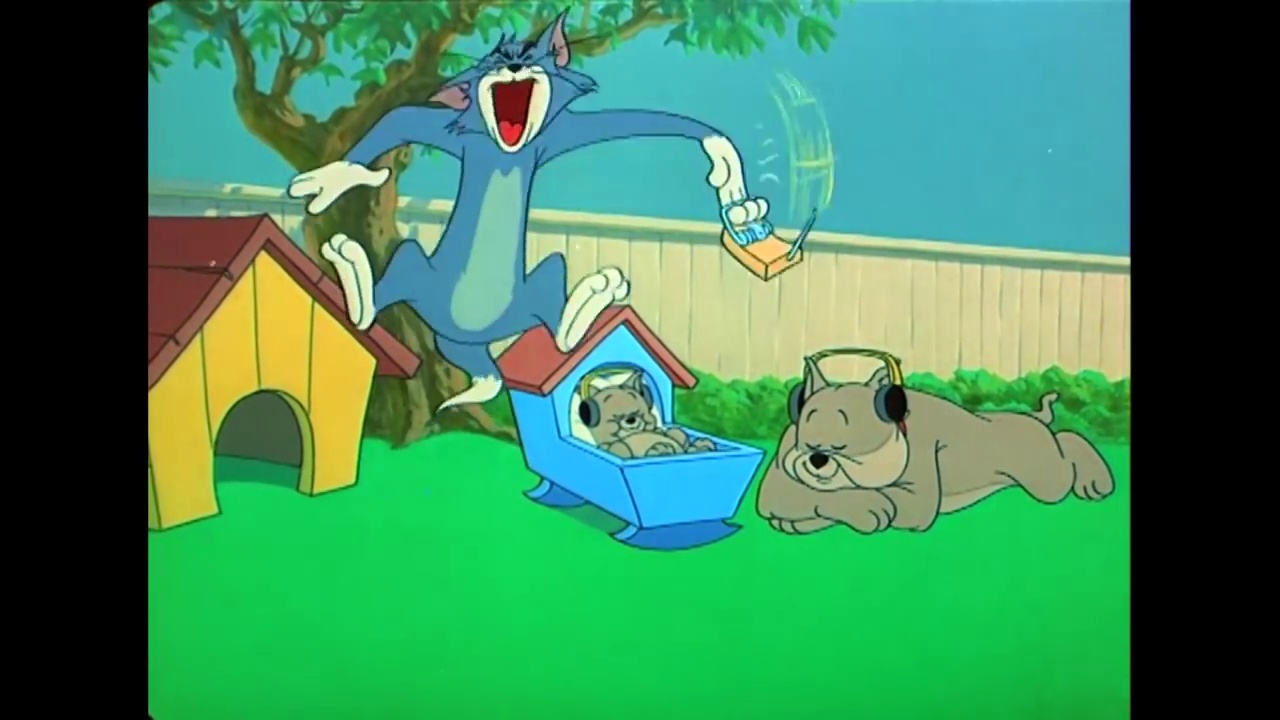spike: (774, 349, 922, 497)
tom: (429, 6, 605, 162)
